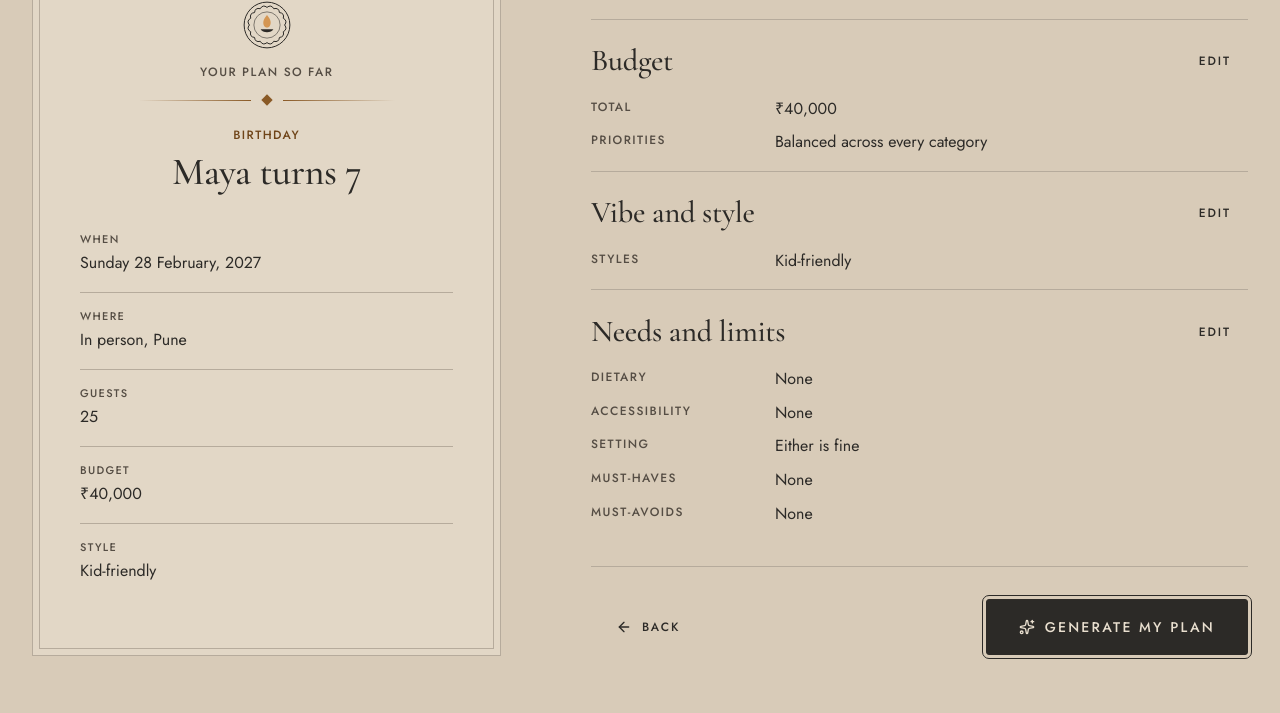
Wizard generation › explains rate limiting from a 429 response
(page scrolled)
Click the button "Generate my plan" at (1117, 627), box top-left (986, 599), bottom-right (1248, 655)
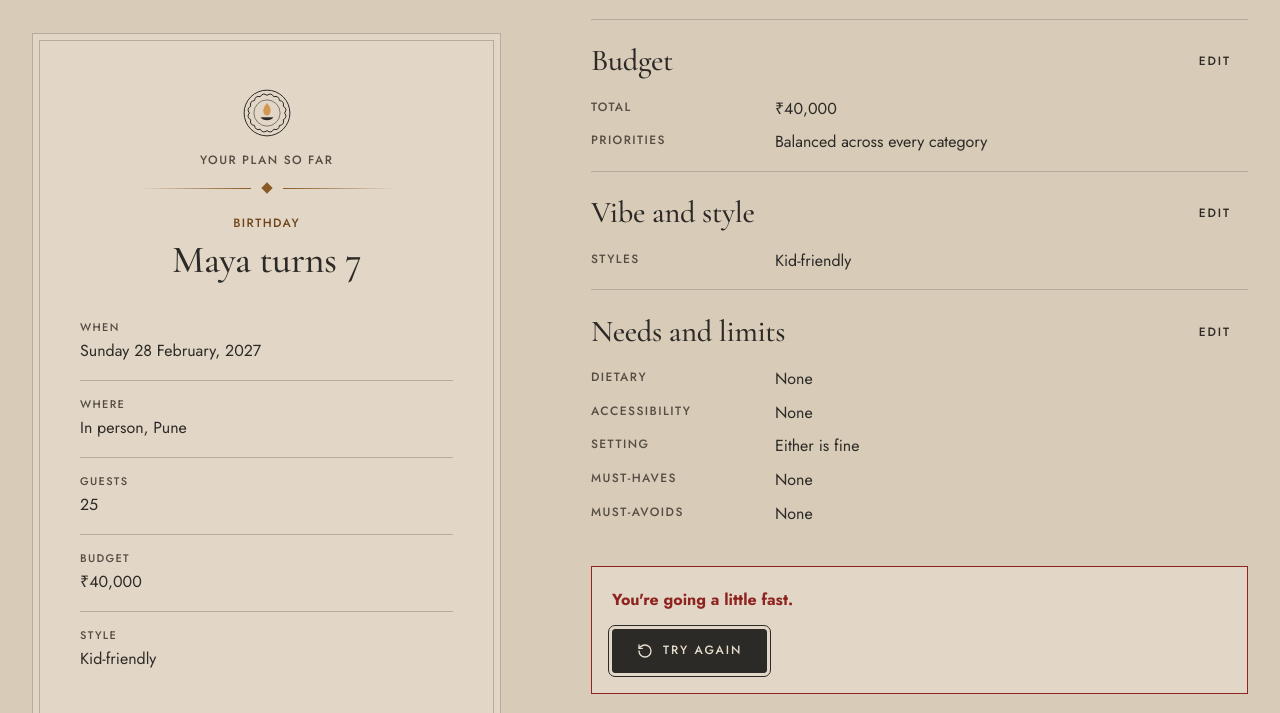
Now the text "You're going a little fast." is shown, box top-left (612, 588), bottom-right (793, 611)
